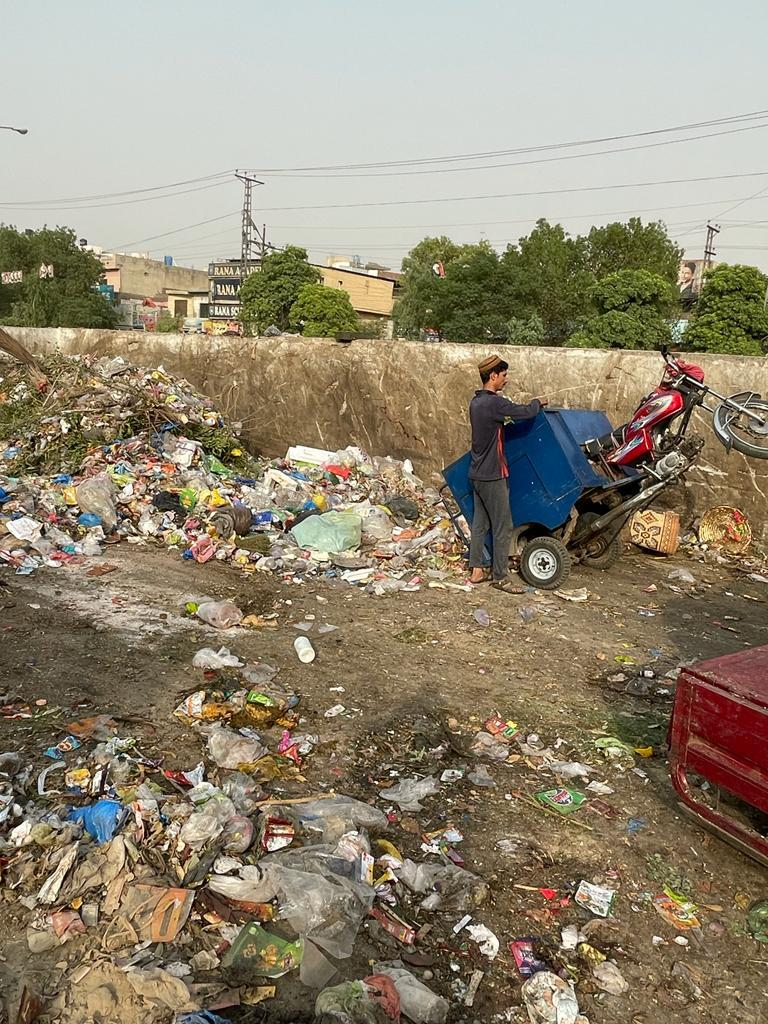garbage: (19, 662, 583, 1024), (9, 372, 451, 597)
